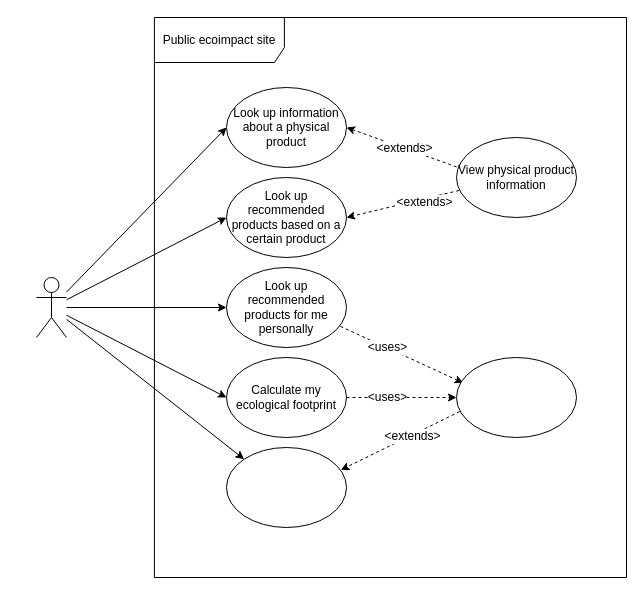
Some shapes in this 644 by 595 pixel diagram are drawn without their labels. Here are the shapes that lost their labels. From the top down, the centre of each, then its label:
(51,307): Unregistered user
(516,397): Login or register account
(286,487): Login
